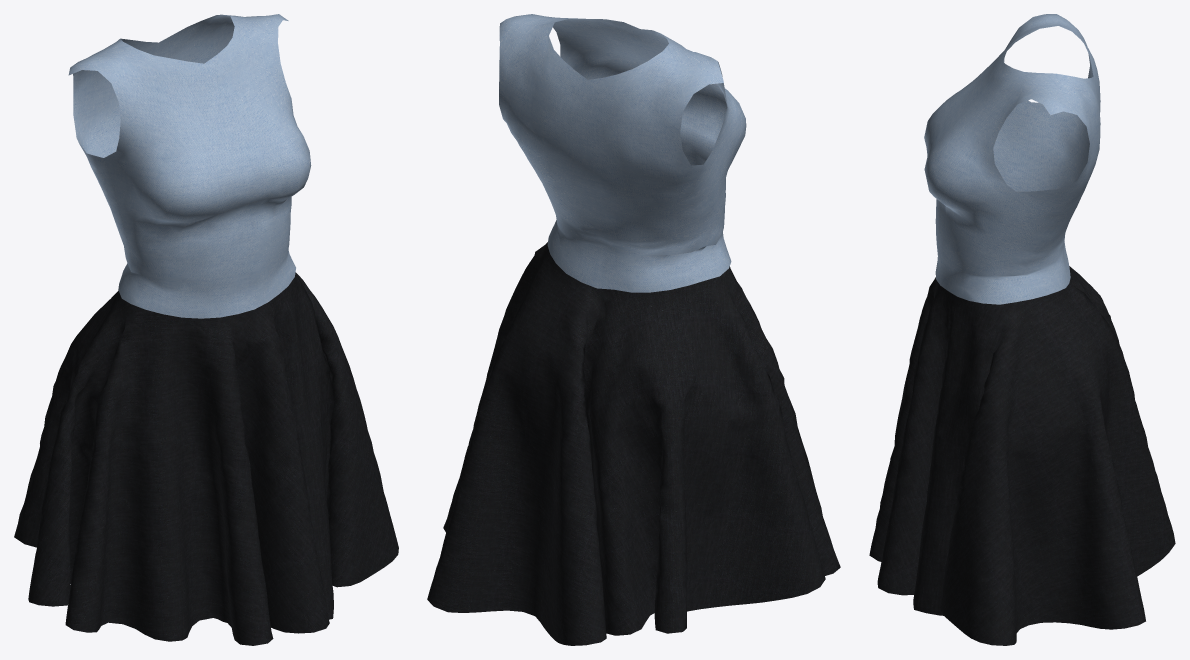
The picture shows the model from 3 angles, left to right: view 1: azimuth 30°, elevation 25°; view 2: azimuth 150°, elevation 25°; view 3: azimuth 270°, elevation 25°; orthographic projection. The views are drawn at different scales.
Visible parts, largest first — view 1: dress; view 2: dress; view 3: dress.
Part boxes in pixels (x1,y1,x2,y2): dress: (14,14,398,645); dress: (427,14,840,645); dress: (869,14,1175,645).
Bounding box in the file's own units: 552 × 813 × 427.
Materials: 2 (2 with a texture image).
